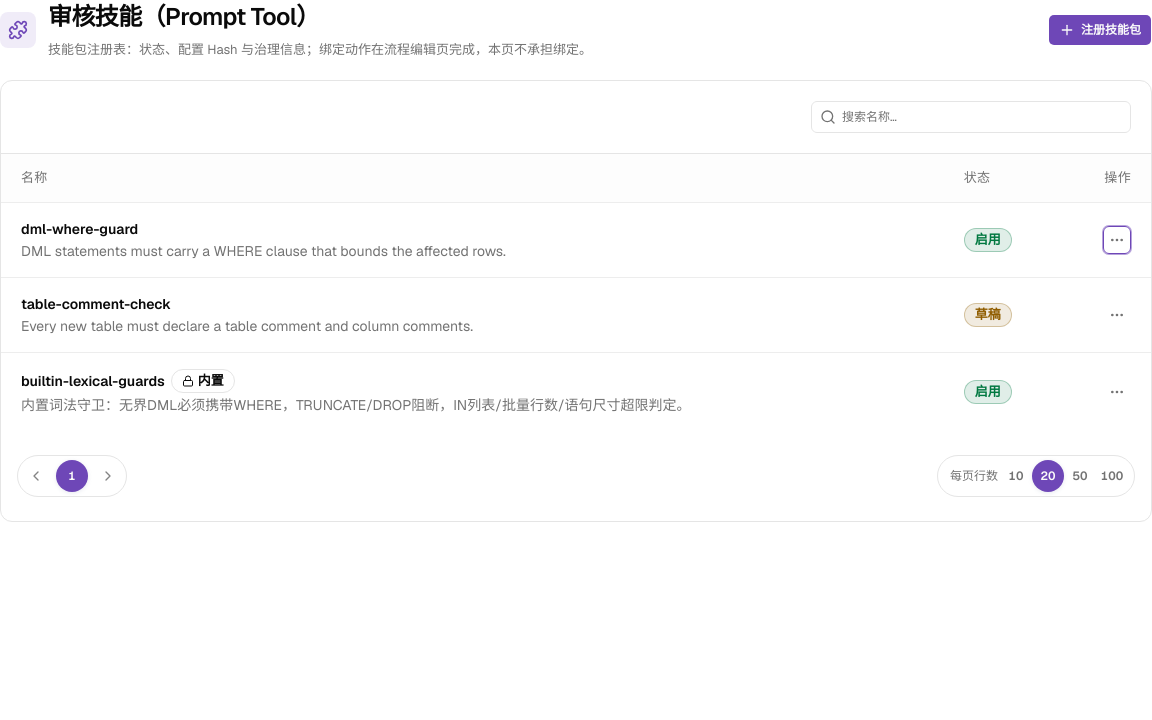
Test case: gate: 配置Hash与Review失效影响明确（owner裁定：列表不展示，挪入编辑对话框） › keeps hashes and the outdated-impact note out of the list and inside the edit dialog
The width and height of the screenshot is (1152, 720).
Step 1. Press Enter
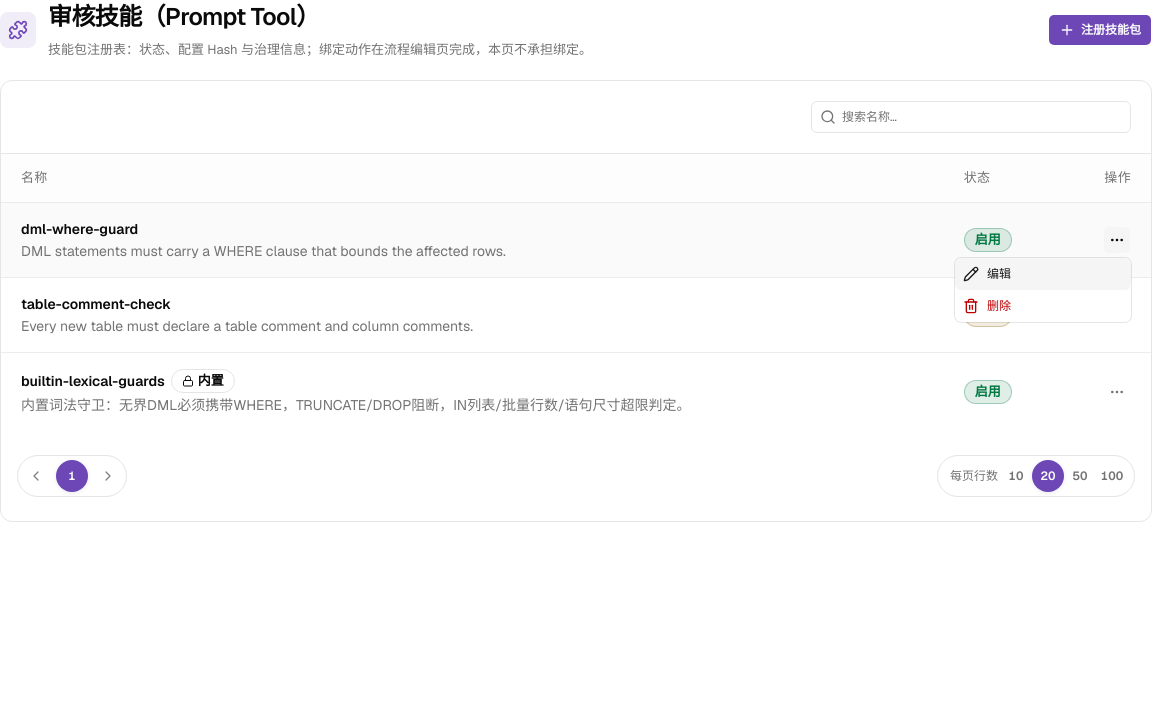
Step 2. Click the menu item with test id "review-input-edit-" → x=1043, y=274, box [955, 258, 1131, 290]
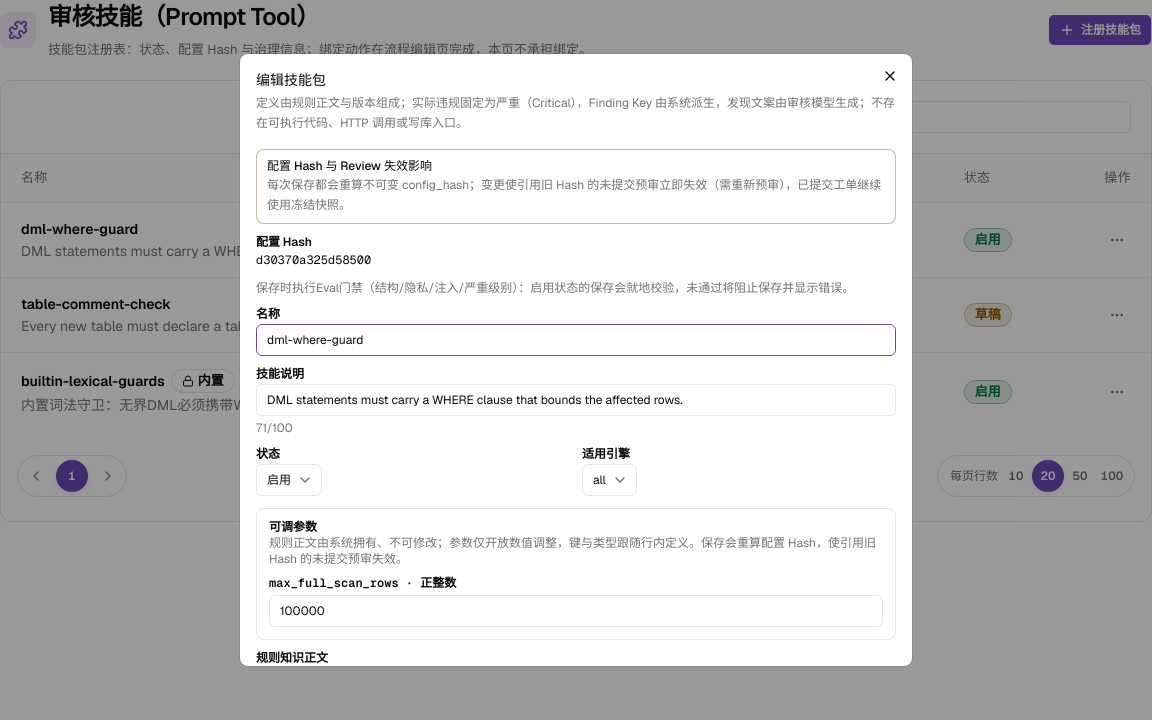
Result: the message with test id "review-input-outdated-note" is shown at [256, 149, 896, 224]
Result: the text with test id "review-input-hash" reads "d30370a325d58500" at [256, 252, 371, 268]
